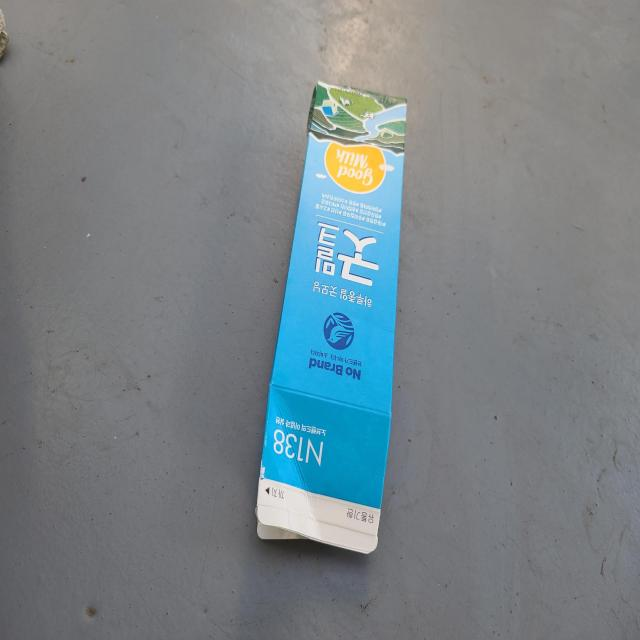paperpack: (256, 81, 407, 554)
